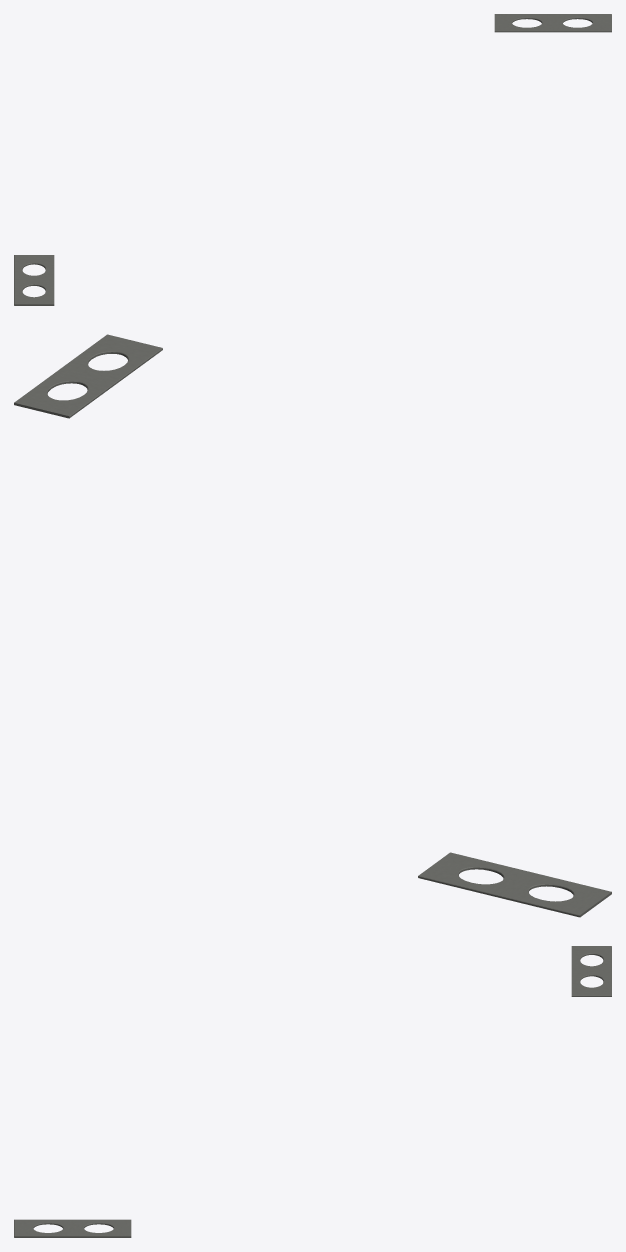
File: Countertops_Quartz_Expo_Gray.glb
The picture shows the model from 3 angles, top to bottom: view 1: azimuth 90°, elevation 25°; view 2: azimuth 150°, elevation 25°; view 3: azimuth 270°, elevation 25°; orthographic projection. The views are drawn at different scales.
Visible parts, largest first — view 1: Countertop_quartz_expo_gray; view 2: Countertop_quartz_expo_gray; view 3: Countertop_quartz_expo_gray.
Boxes of the visible parts, x1,y1,x2,y2 form: Countertop_quartz_expo_gray: [14, 14, 611, 305]; Countertop_quartz_expo_gray: [14, 334, 611, 917]; Countertop_quartz_expo_gray: [14, 946, 611, 1237].
Bounding box in the file's own units: 17 × 0.04 × 14.8.
1 material, 1 textured.
